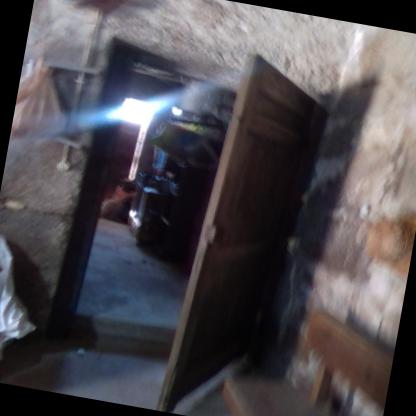semi: (38, 26, 338, 414)
